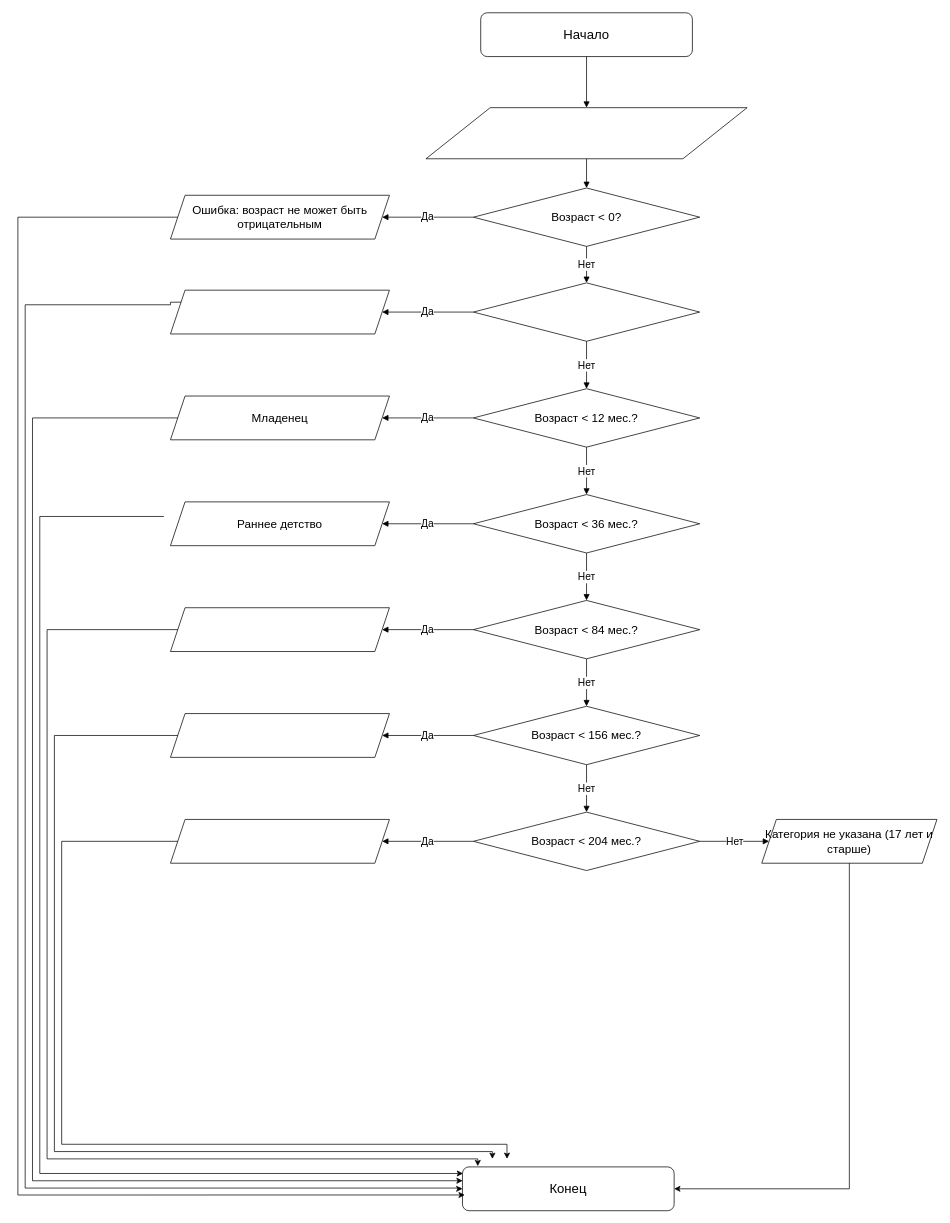
This 950x1223 diagram has some shape labels left out. Here are the shapes that lost their labels. From the top down, the centre of each, then its label:
At point 586,133: "Ввод возраста в месяцах".
At point 279,311: "Новорождённый".
At point 586,311: "Возраст < 2 мес.?".
At point 279,629: "Дошкольник".
At point 279,735: "Школьник".
At point 279,841: "Подросток".
